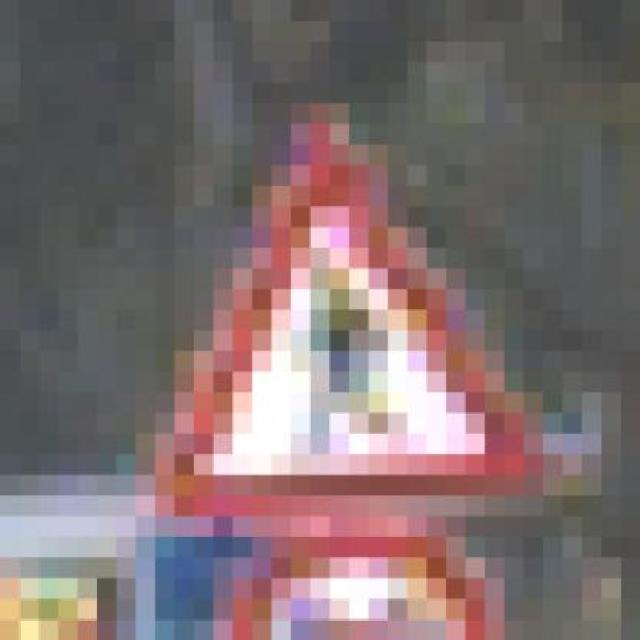Pedestrian Crossing: (116, 61, 562, 537)
